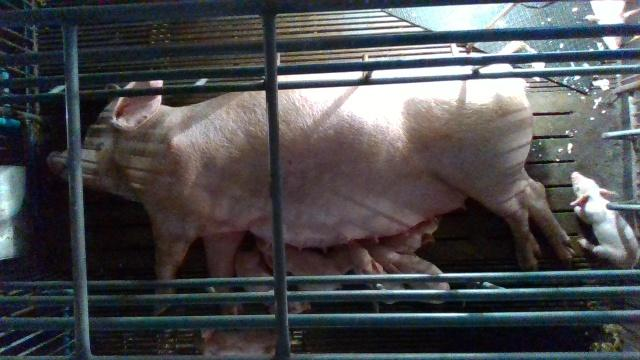piglet: (568, 172, 640, 271), (327, 216, 438, 273), (233, 250, 312, 313), (370, 245, 451, 305), (260, 238, 343, 291), (348, 239, 405, 305), (585, 0, 640, 51), (198, 327, 276, 360)
sow-sleep-lactate: (47, 39, 575, 315)
